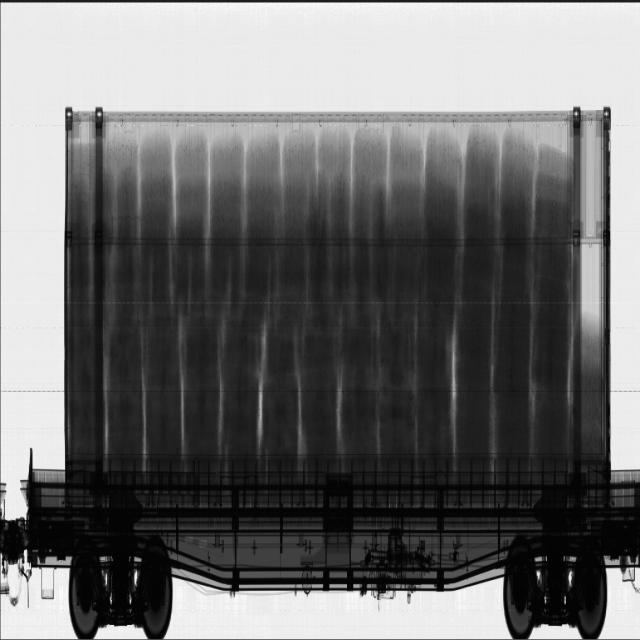textile: (73, 123, 598, 460)
